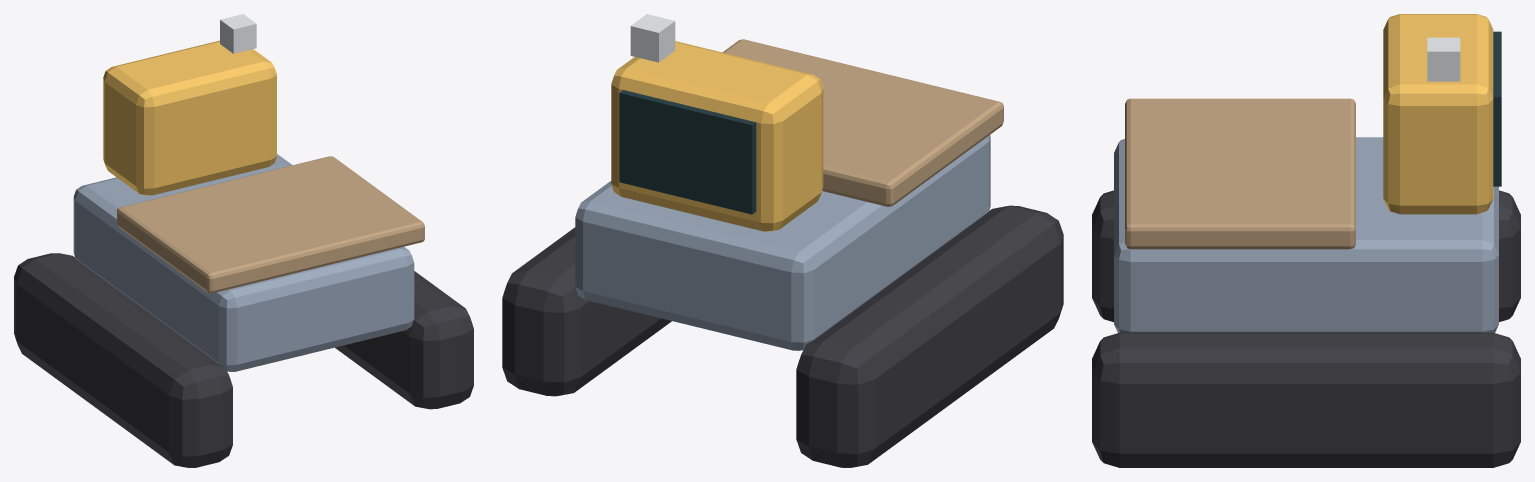
Rendered from robot_mula.glb.
3 views of the same model, side by side, from view 1: azimuth 30°, elevation 25°; view 2: azimuth 150°, elevation 25°; view 3: azimuth 270°, elevation 25° (orthographic). The views are drawn at different scales.
Visible parts, largest first — view 1: chasis, oruga_i, plataforma, cabeza, oruga_d, luz_estado; view 2: chasis, oruga_i, cabeza, plataforma, oruga_d, pantalla, luz_estado; view 3: oruga_d, chasis, plataforma, cabeza, oruga_i, luz_estado, pantalla.
Boxes of the visible parts, x1,y1,x2,y2 form: chasis: (73,154,414,371); oruga_i: (14,253,232,467); plataforma: (117,156,424,293); cabeza: (103,40,276,195); oruga_d: (335,271,473,409); luz_estado: (220,14,256,53); chasis: (575,135,990,350); oruga_i: (796,205,1063,467); cabeza: (611,41,823,231); plataforma: (722,39,1003,206); oruga_d: (502,227,671,396); pantalla: (619,90,756,214); luz_estado: (630,14,675,62); oruga_d: (1092,332,1520,467); chasis: (1114,137,1498,332); plataforma: (1125,98,1355,249); cabeza: (1383,14,1493,214); oruga_i: (1092,190,1520,321); luz_estado: (1427,37,1460,81); pantalla: (1493,31,1501,186).
Size of the model in its own units: 0.78 by 0.75 by 0.78.
